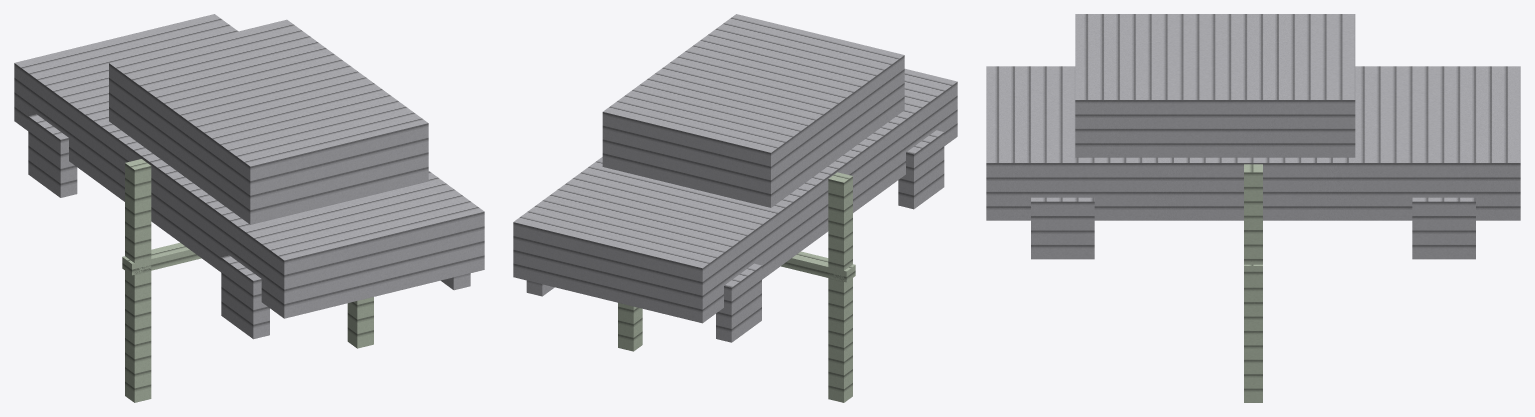
File: vehicle_in_repair.glb
The picture shows the model from 3 angles, left to right: view 1: azimuth 30°, elevation 25°; view 2: azimuth 150°, elevation 25°; view 3: azimuth 270°, elevation 25°; orthographic projection. The views are drawn at different scales.
Visible parts, largest first — view 1: vehicle_in_repair-col; view 2: vehicle_in_repair-col; view 3: vehicle_in_repair-col.
Part boxes in pixels (<box>): vehicle_in_repair-col: <box>14,14,484,402</box>; vehicle_in_repair-col: <box>513,14,957,402</box>; vehicle_in_repair-col: <box>986,14,1520,402</box>.
Size of the model in its own units: 2.2 by 2.5 by 4.2.
Materials: 4 (4 with a texture image).
